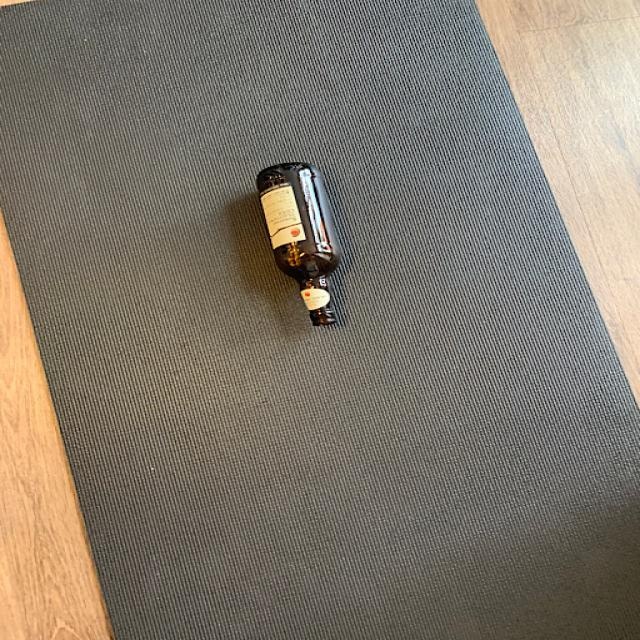litter: (256, 158, 350, 331)
